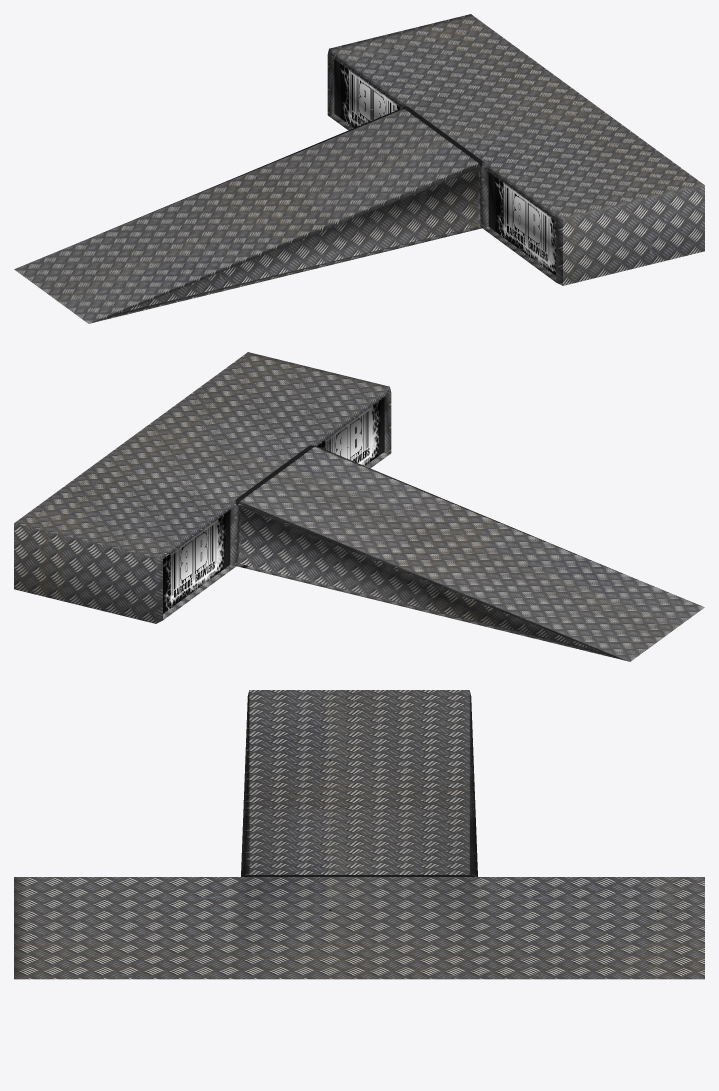
File: TitanTronSimple.fbx
3 renders of one model, top to bottom at view 1: azimuth 30°, elevation 25°; view 2: azimuth 150°, elevation 25°; view 3: azimuth 270°, elevation 25°, orthographic. The views are drawn at different scales.
Parts seen in each view (by area): view 1: Cube; view 2: Cube; view 3: Cube.
Boxes of the visible parts, box(x1,y1,x2,y2) form: Cube: box(14, 14, 704, 323); Cube: box(14, 352, 704, 661); Cube: box(14, 690, 704, 979).
Bounding box in the file's own units: 21.16 × 2.49 × 15.98.
